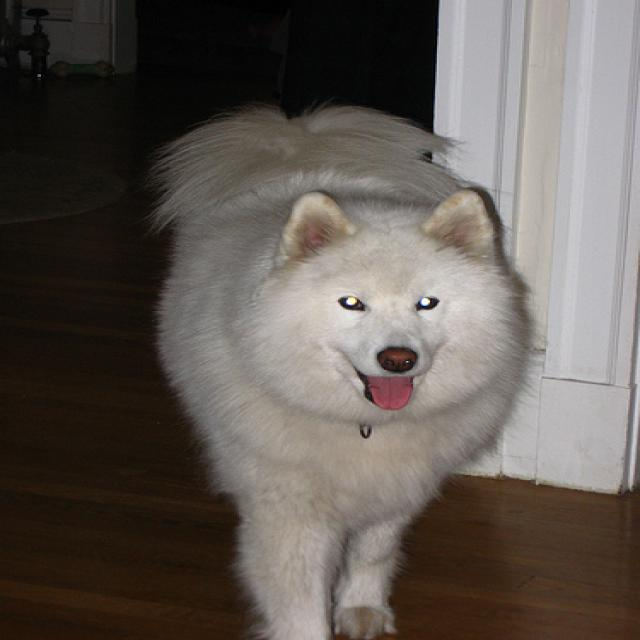dog-samoyed: (138, 93, 558, 637)
